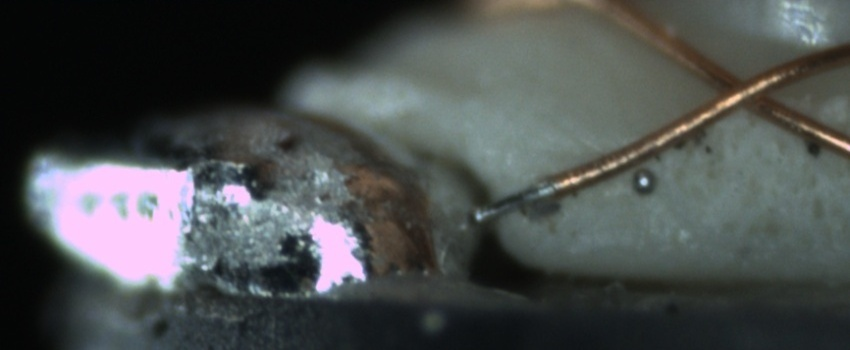CL: (693, 56, 796, 123)
TS: (470, 180, 554, 225)
TTCW: (468, 158, 592, 226)
